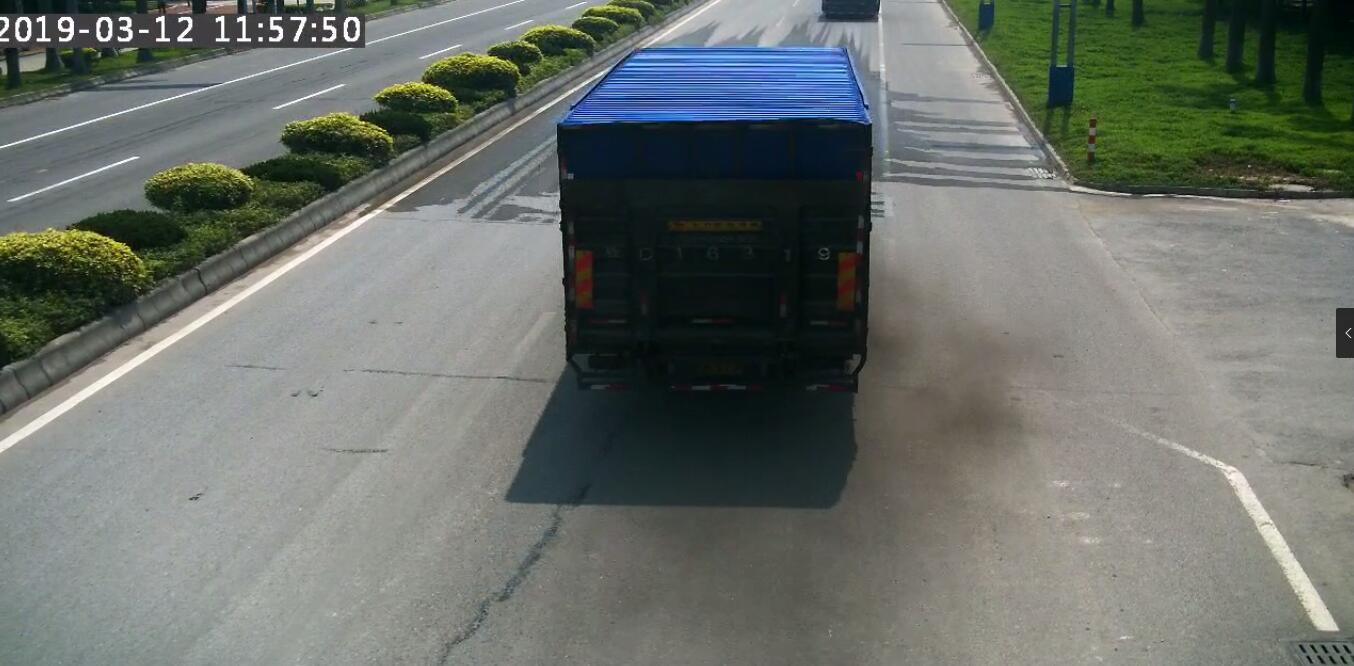yanwu: (860, 270, 1029, 479)
